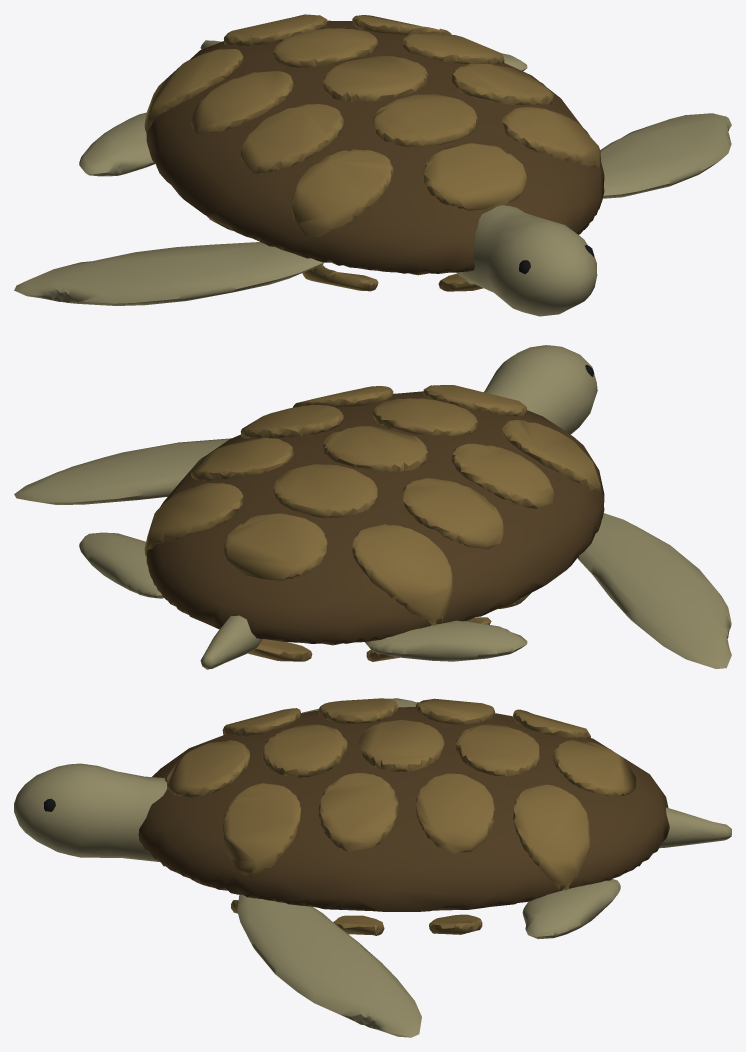
The model's file is turtle.glb.
The picture shows the model from 3 angles, top to bottom: view 1: azimuth 30°, elevation 25°; view 2: azimuth 150°, elevation 25°; view 3: azimuth 270°, elevation 25°; orthographic projection. The views are drawn at different scales.
Parts seen in each view (by area): view 1: scutes, carapace, front_mx, head, front, rear_mx; view 2: scutes, carapace, front_mx, front, head, rear_mx, rear, tail; view 3: carapace, scutes, front, head, rear, tail.
Part boxes in pixels (x1,y1,x2,y2): scutes: (144, 14, 601, 291); carapace: (146, 20, 604, 273); front_mx: (14, 242, 323, 305); head: (456, 205, 597, 316); front: (600, 113, 731, 198); rear_mx: (79, 112, 154, 176); scutes: (144, 385, 601, 661); carapace: (146, 391, 604, 644); front_mx: (577, 513, 731, 668); front: (14, 438, 231, 504); head: (484, 345, 597, 434); rear_mx: (365, 620, 527, 661); rear: (79, 532, 163, 598); tail: (200, 615, 262, 669); carapace: (138, 706, 669, 911); scutes: (167, 698, 636, 935); front: (237, 894, 421, 1037); head: (14, 763, 167, 862); rear: (522, 879, 620, 939); tail: (659, 807, 731, 848).
Size of the model in its own units: 1.48 by 0.3215 by 1.33.
